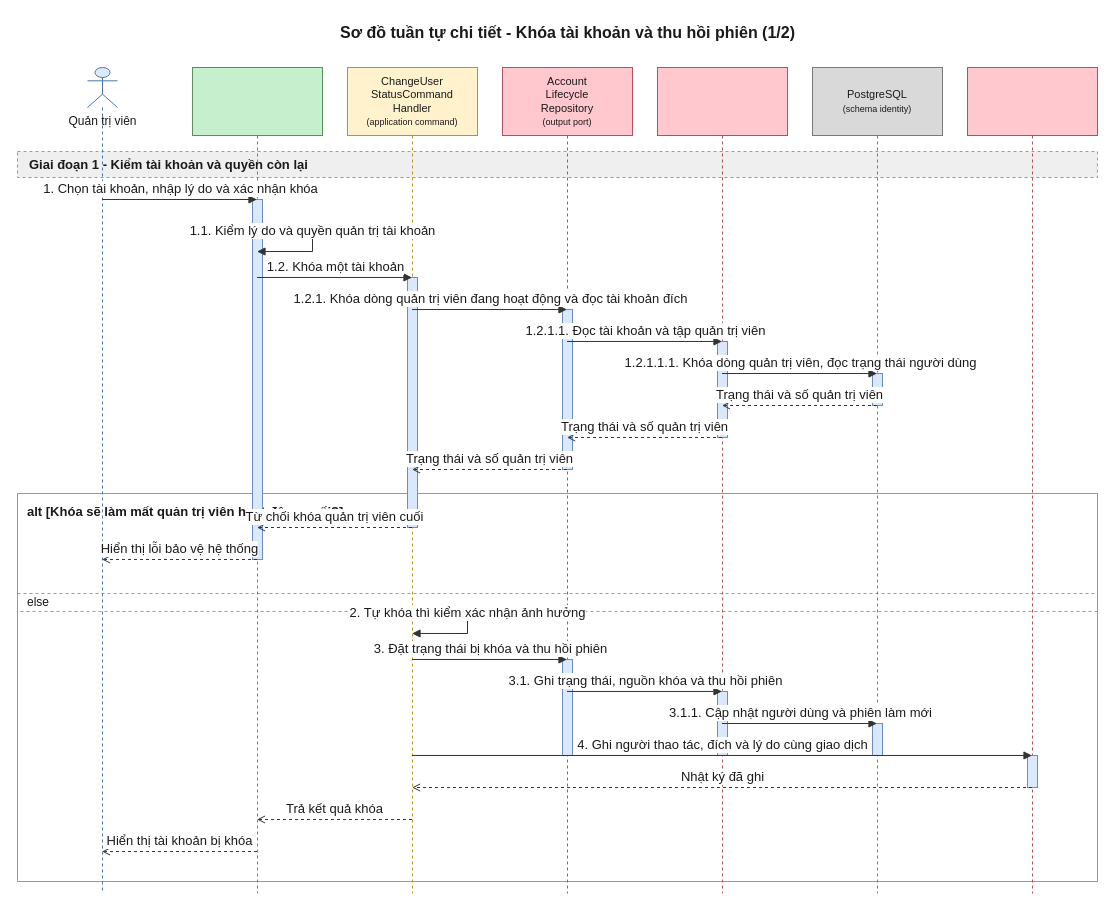
Image size: 1115x911. Some labels were removed from this diagram. Each missing label, with the box of its shape:
AdminUserAction Controller (presentation): (192, 66, 322, 894)
AuditLogPort (identity output port): (966, 66, 1098, 894)
JdbcUserAccount Repository (persistence adapter): (656, 66, 788, 894)
